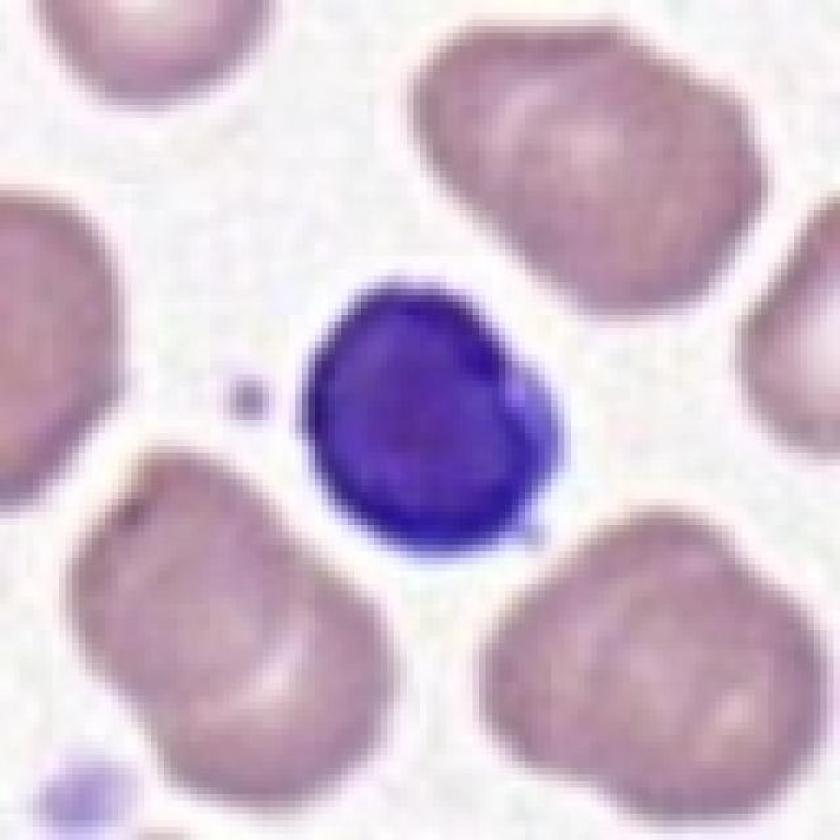lymphocyte: (298, 271, 579, 563)
